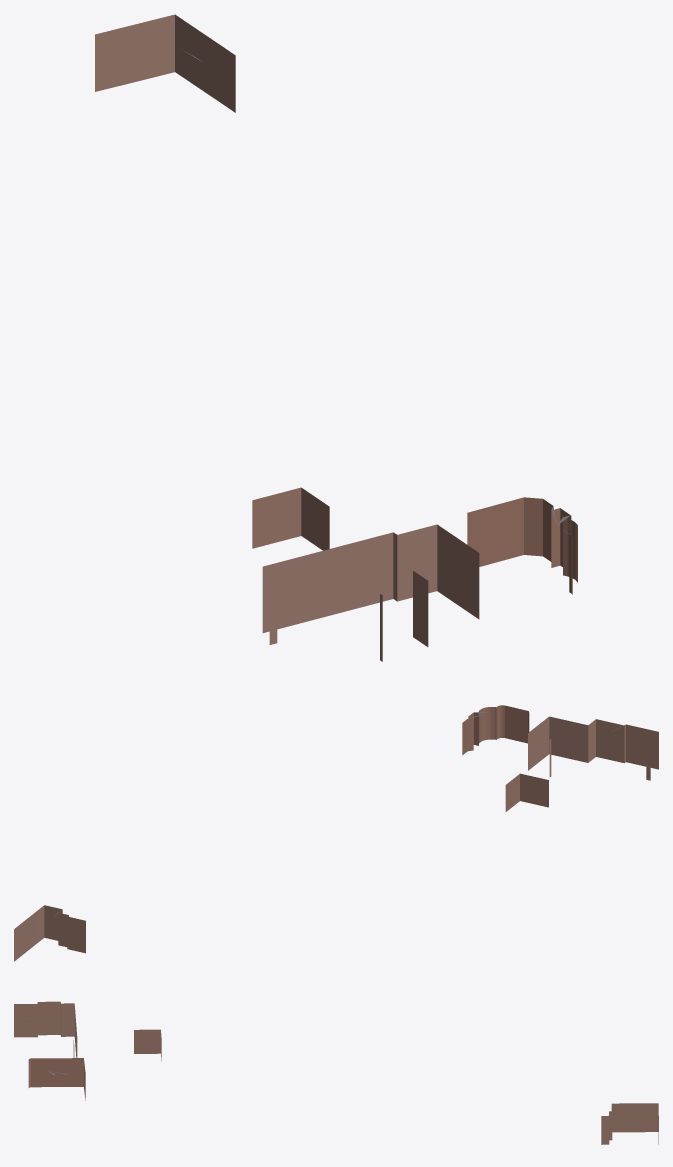
The model's file is c_1637_17826_buildings_residential.glb.
The picture shows the model from 3 angles, top to bottom: view 1: azimuth 30°, elevation 25°; view 2: azimuth 150°, elevation 25°; view 3: azimuth 270°, elevation 25°; orthographic projection. The views are drawn at different scales.
Visible parts, largest first — view 1: geometry_0; view 2: geometry_0; view 3: geometry_0.
Boxes of the visible parts, <box> form: geometry_0: <box>95,14,577,661</box>; geometry_0: <box>14,705,658,961</box>; geometry_0: <box>14,1001,658,1144</box>.
Bounding box in the file's own units: 87.54 × 11.61 × 193.
